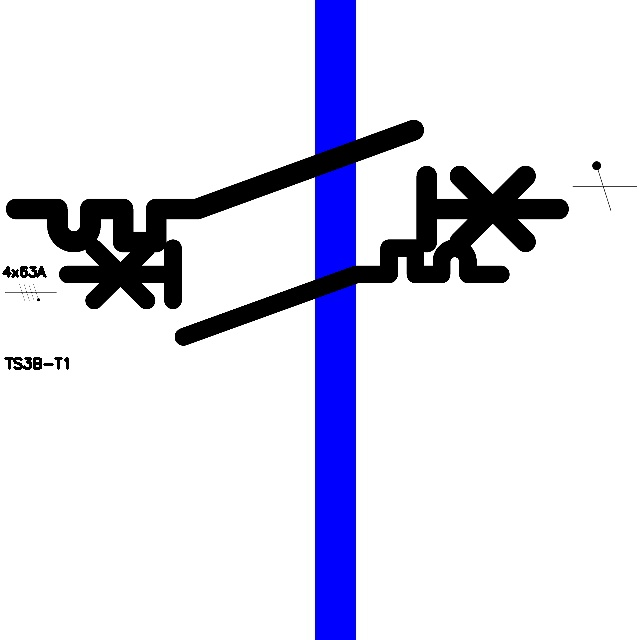interruptor_termomagnetico: (2, 116, 573, 256), (56, 237, 512, 348)
